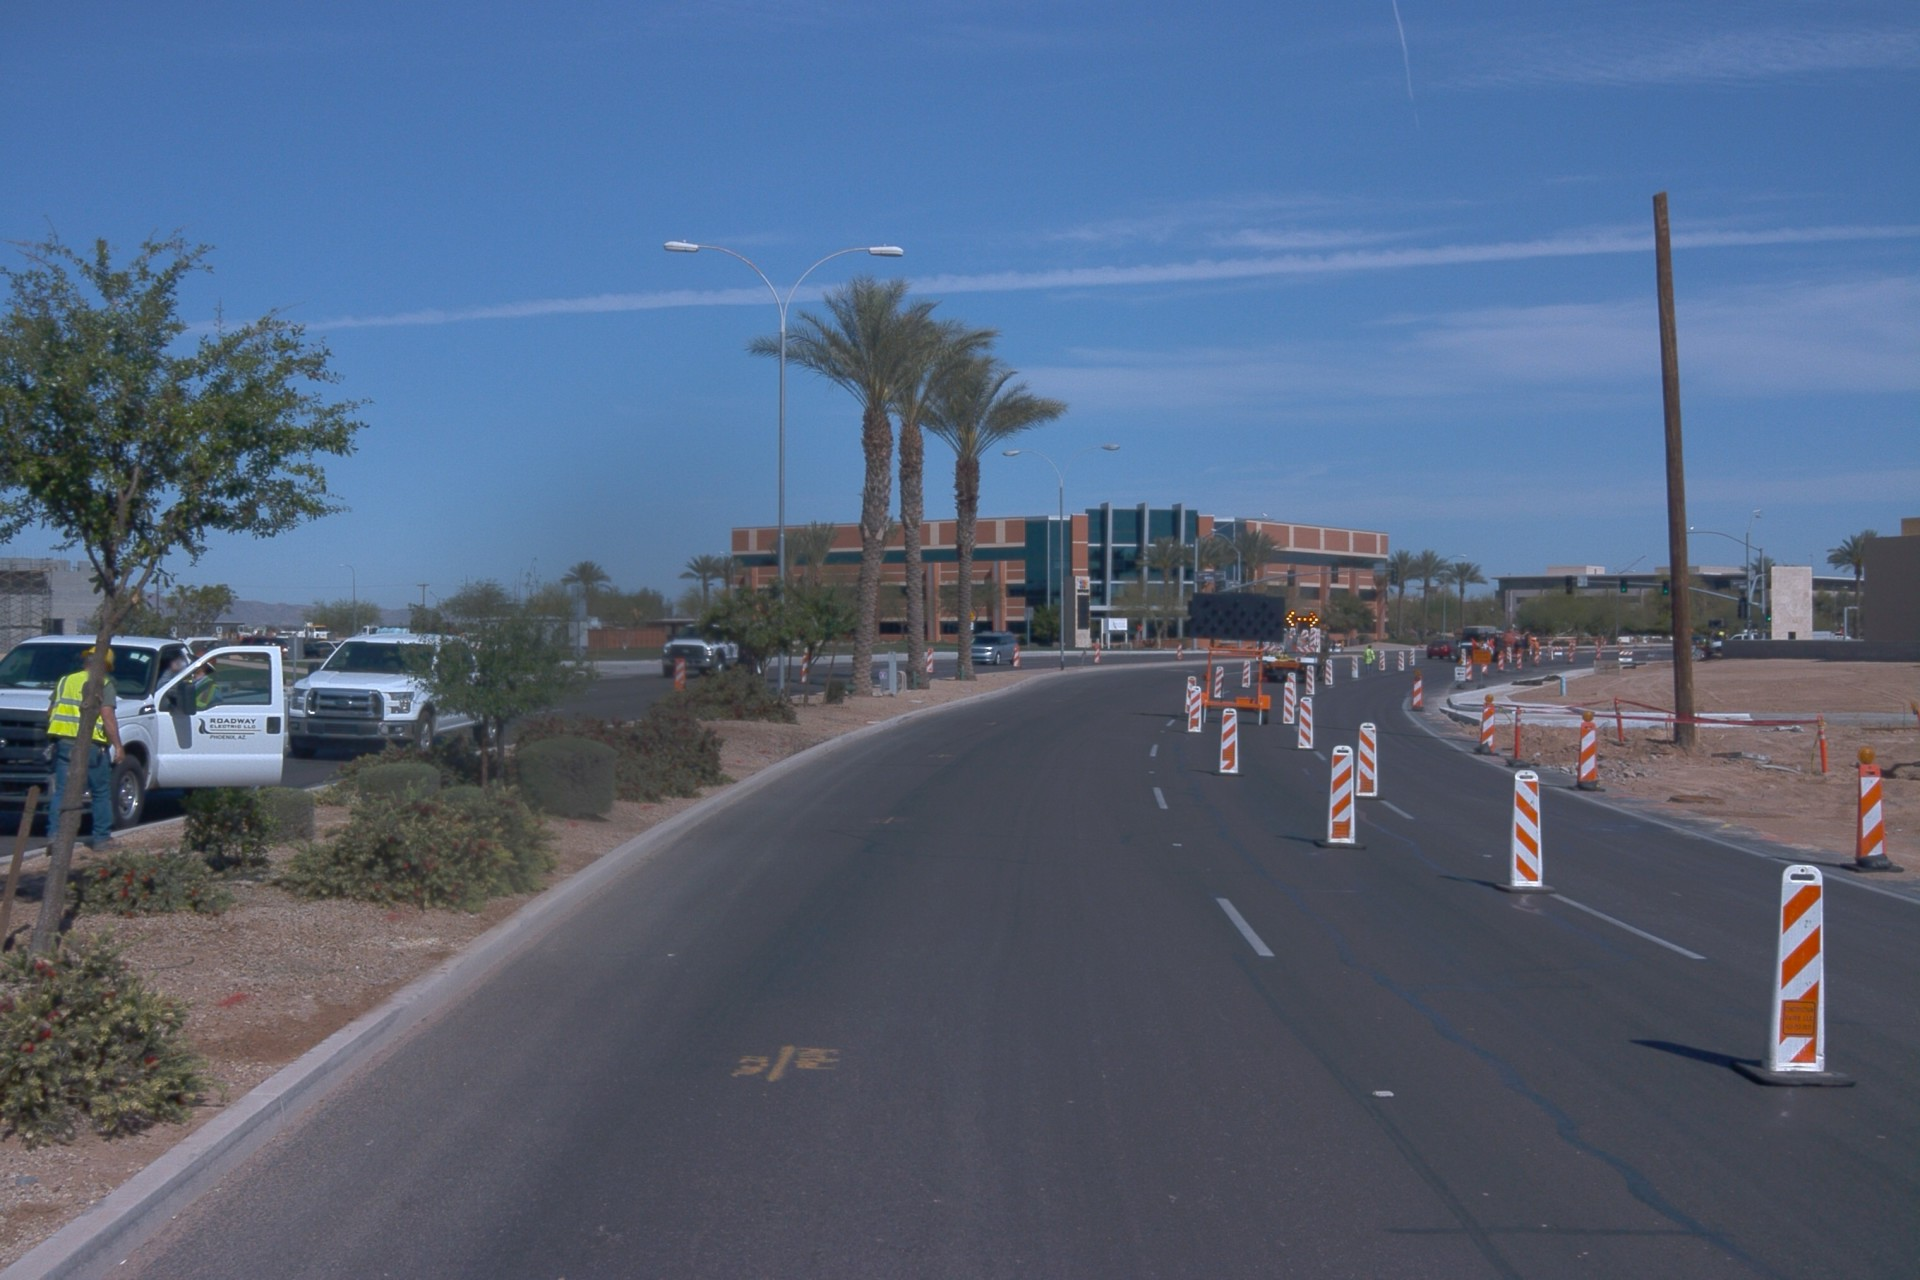TYPE_PEDESTRIAN: (43, 644, 128, 860), (1363, 644, 1377, 676)
TYPE_VEHICLE: (0, 633, 267, 830), (278, 630, 510, 769), (1182, 583, 1296, 732), (660, 591, 797, 683), (1249, 609, 1341, 685), (1455, 621, 1538, 667), (966, 632, 1017, 669), (233, 635, 298, 663), (205, 636, 251, 665), (1714, 627, 1755, 651), (1421, 635, 1457, 661), (316, 637, 342, 654)
